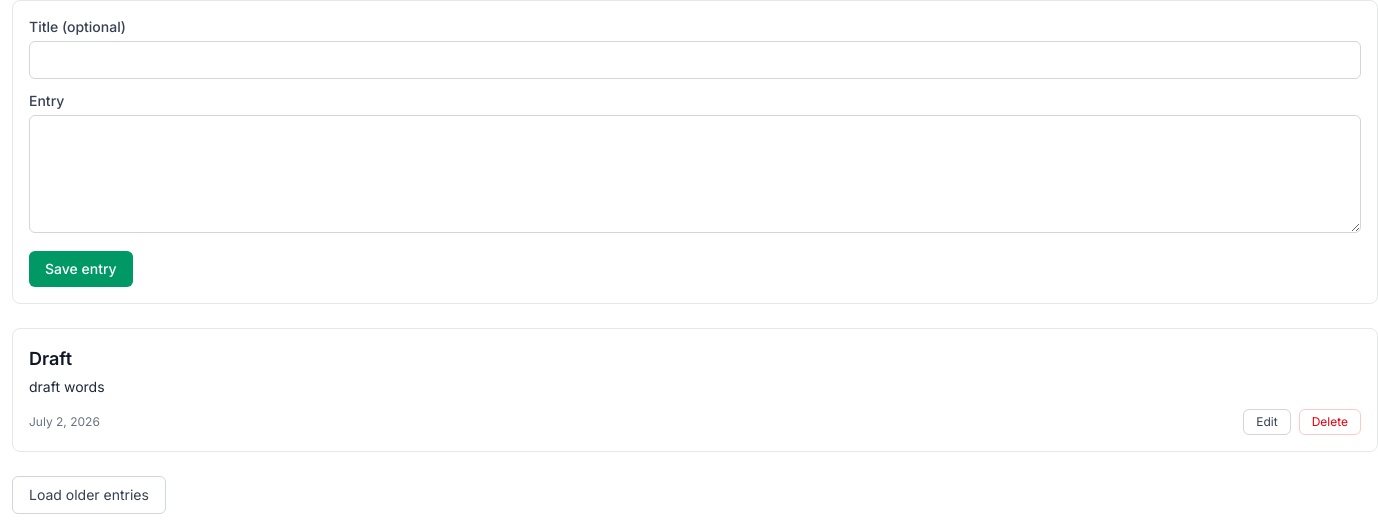
Test: FEAT-H011 — JournalPanel (STORY-1..3) › edits an entry in place and re-reads (STORY-3)
expect the text "draft words" is shown: met, box [29,378,104,395]
Click the button "Edit" at (1267, 422), box [1243,409,1291,435]
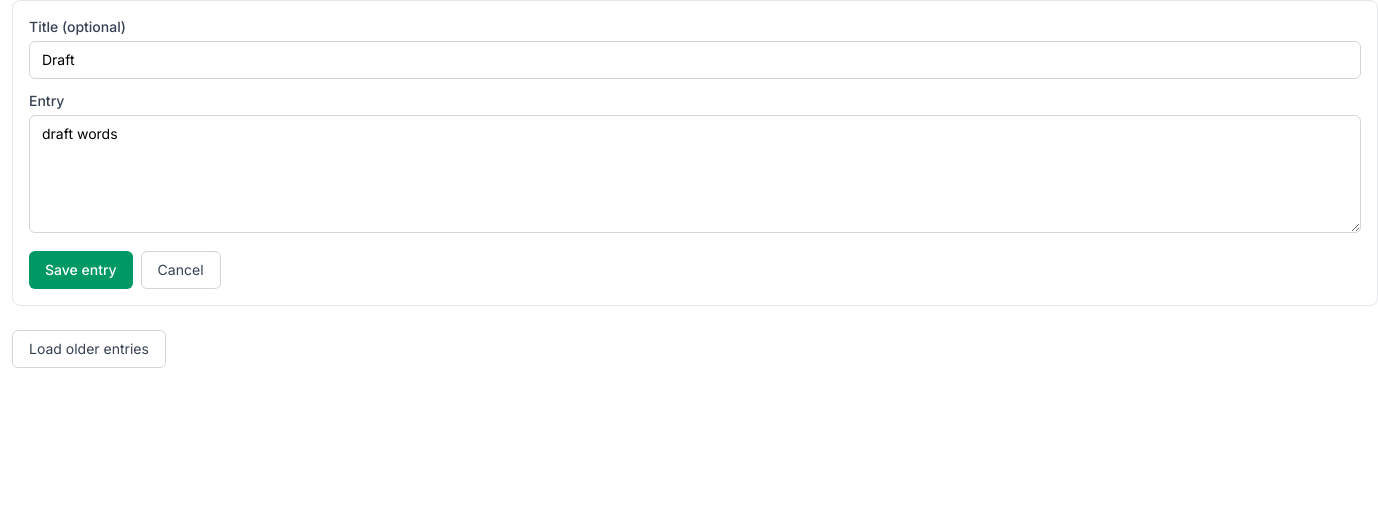
Replace the text in the text box showing "draft words" with "revised words" at (695, 174), box [29,115,1361,233]
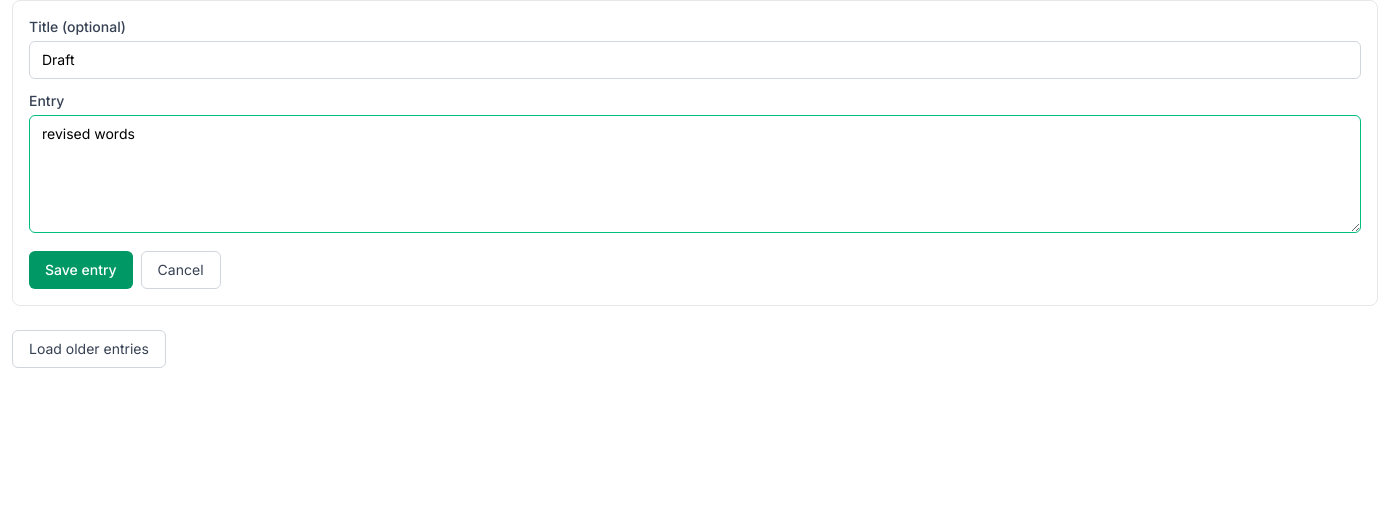
Click the button "Save entry" at (81, 270), box [29,251,133,289]
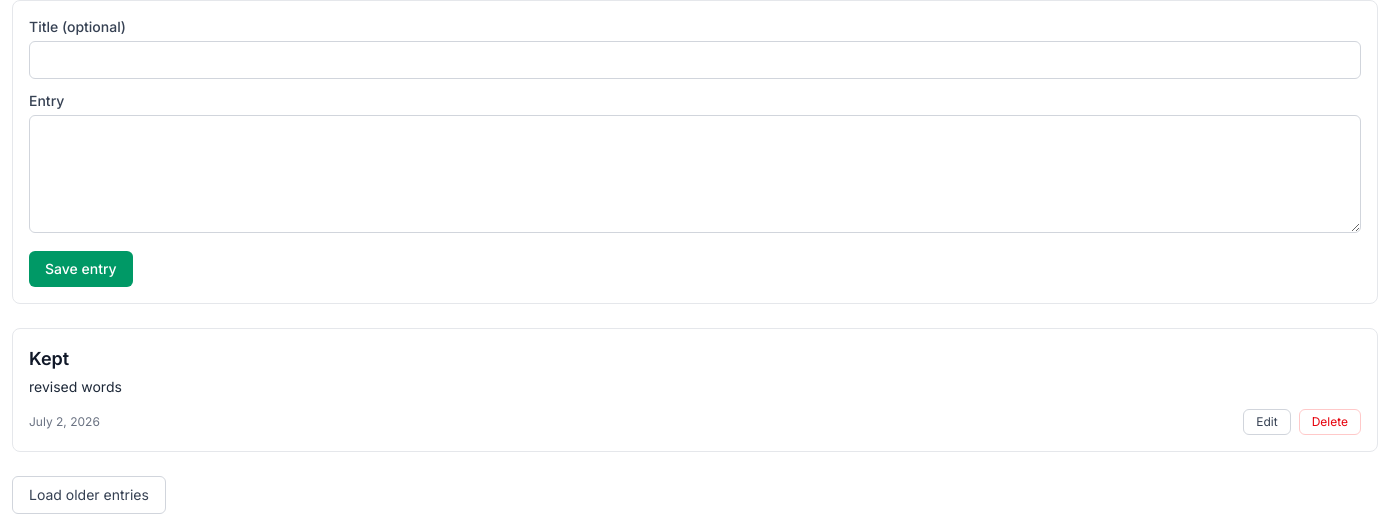
expect the text "revised words" is shown: met, box [29,378,122,395]
